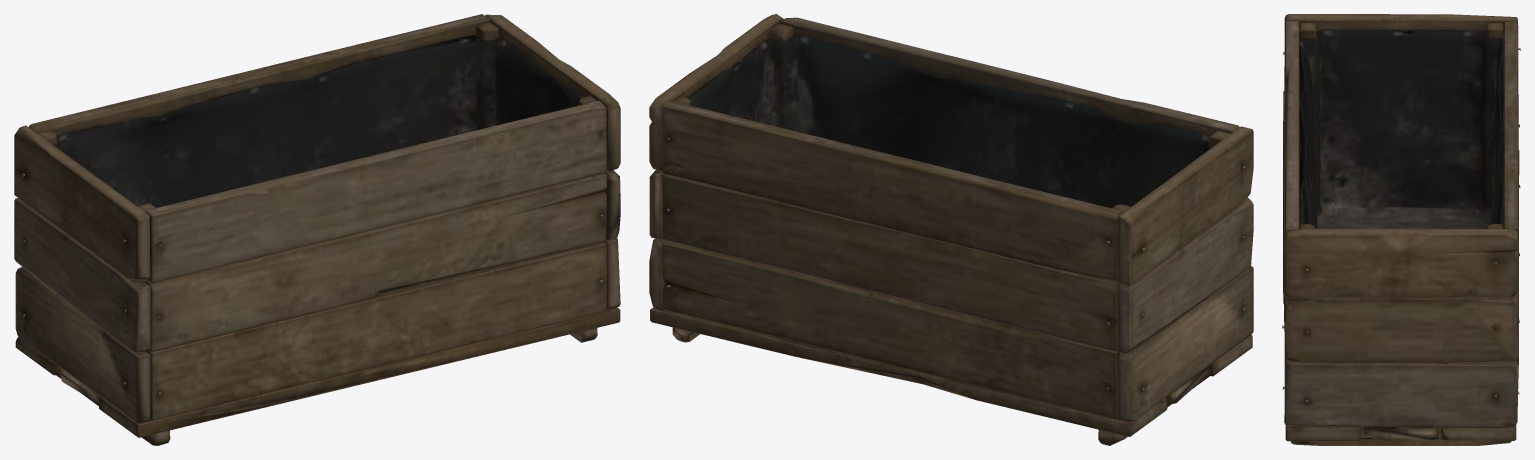
File: planter_box_01.glb
3 renders of one model, left to right at view 1: azimuth 30°, elevation 25°; view 2: azimuth 150°, elevation 25°; view 3: azimuth 270°, elevation 25°, orthographic. The views are drawn at different scales.
Visible parts, largest first — view 1: planter_box_01; view 2: planter_box_01; view 3: planter_box_01.
Part boxes in pixels (left/top/right/bottom): planter_box_01: left=14, top=14, right=620, bottom=445; planter_box_01: left=649, top=14, right=1253, bottom=445; planter_box_01: left=1282, top=14, right=1520, bottom=445.
Bounding box in the file's own units: 0.9126 × 0.4249 × 0.4137.
1 material, 1 textured.
